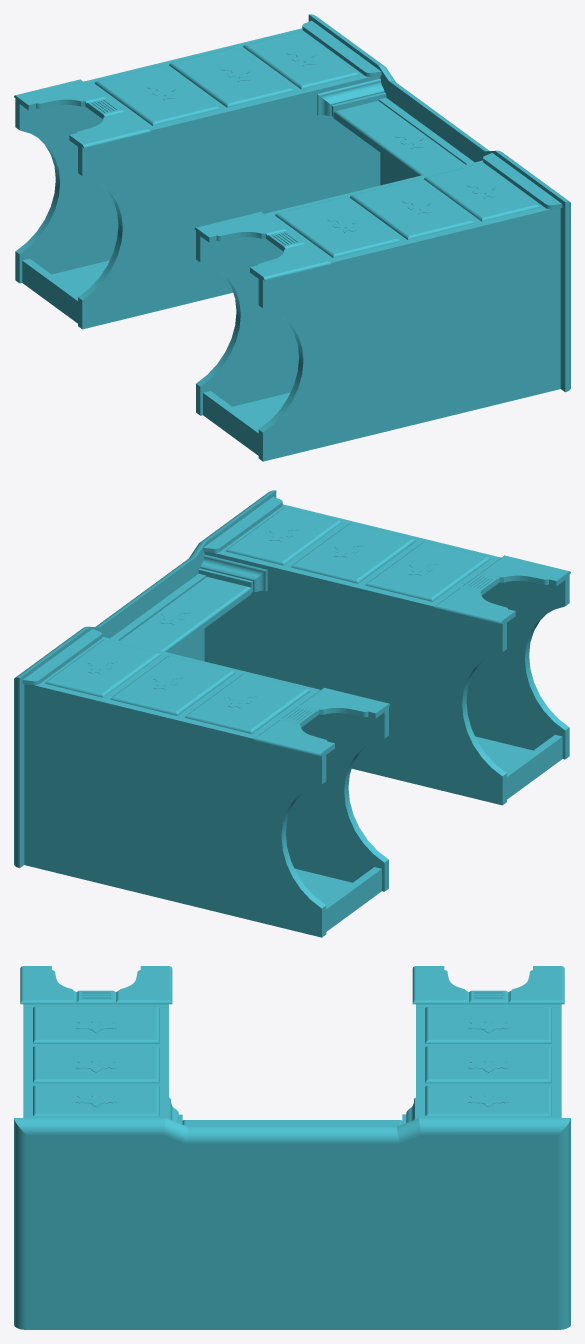
The picture shows the model from 3 angles, top to bottom: view 1: azimuth 30°, elevation 25°; view 2: azimuth 150°, elevation 25°; view 3: azimuth 270°, elevation 25°; orthographic projection. The views are drawn at different scales.
Visible parts, largest first — view 1: Renderer Node; view 2: Renderer Node; view 3: Renderer Node.
Part boxes in pixels (left/top/right/bottom): Renderer Node: left=14, top=14, right=570, bottom=461; Renderer Node: left=14, top=490, right=570, bottom=937; Renderer Node: left=14, top=966, right=570, bottom=1329.
Bounding box in the file's own units: 0.54 × 0.3187 × 0.779.
1 material, 1 textured.
